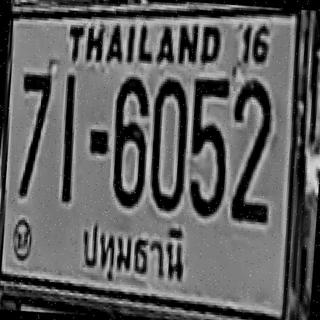N00: (148, 76, 190, 209)
N02: (226, 78, 274, 209)
N05: (184, 75, 231, 216)
N06: (108, 73, 151, 206)
N07: (14, 70, 52, 198)
P38: (69, 217, 196, 297)
